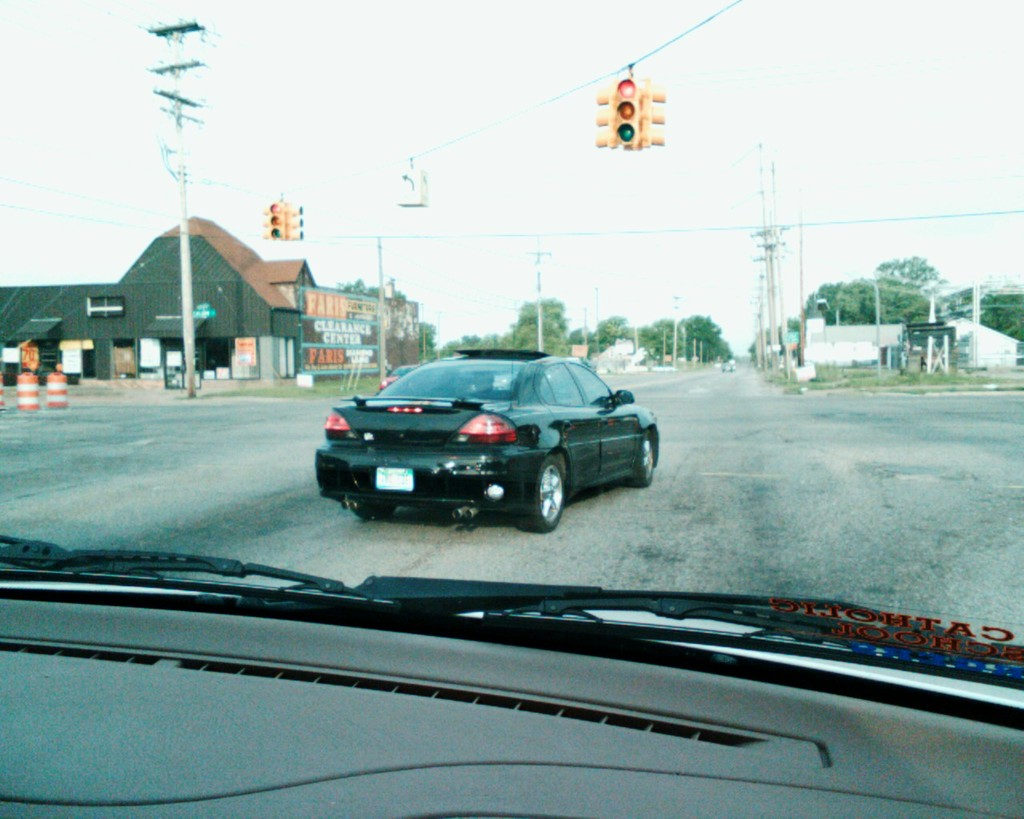Car: (0, 0, 1023, 818), (314, 343, 659, 534), (720, 360, 732, 371)
